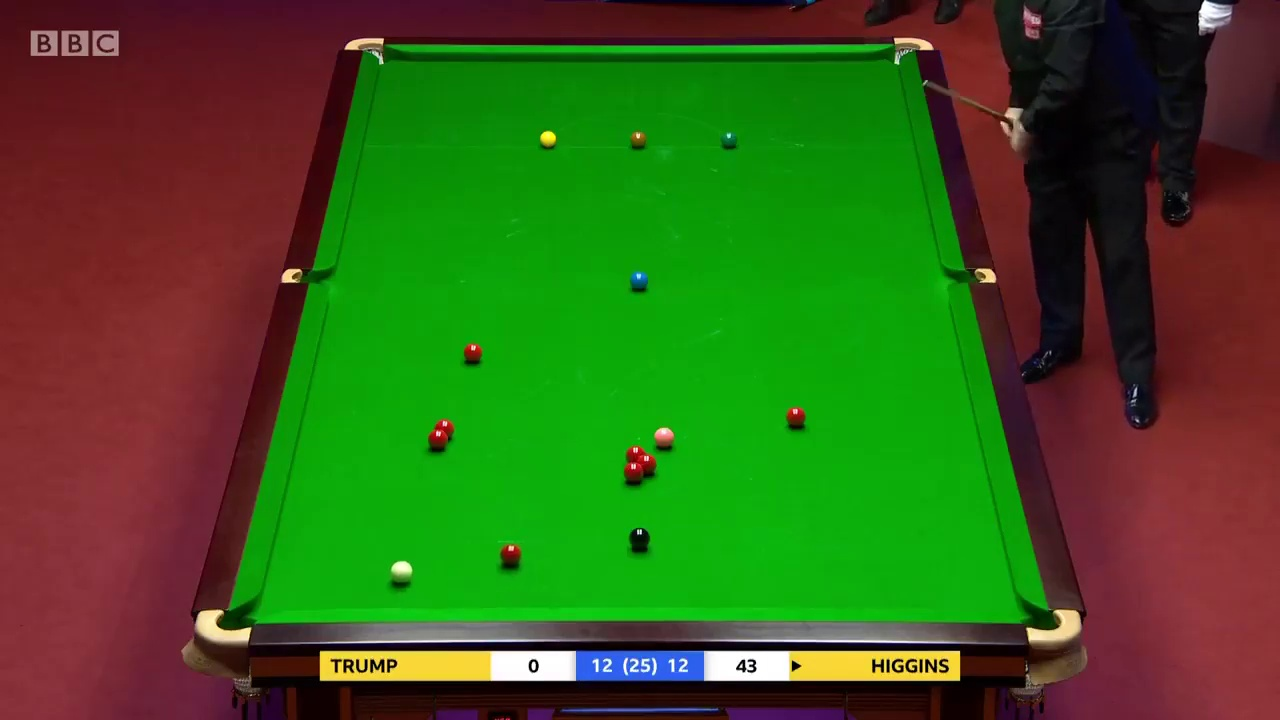ball: (386, 559, 413, 584), (650, 424, 676, 447), (627, 526, 652, 549), (459, 344, 486, 364), (786, 405, 806, 428), (499, 542, 520, 563), (427, 431, 446, 453), (538, 130, 561, 147), (627, 131, 648, 149), (719, 131, 740, 148), (628, 271, 647, 289), (623, 463, 642, 481)
